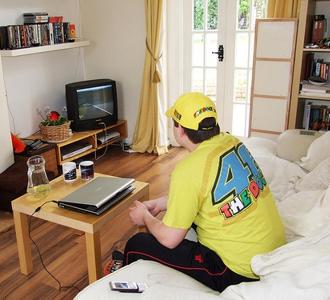person: (122, 91, 287, 294)
